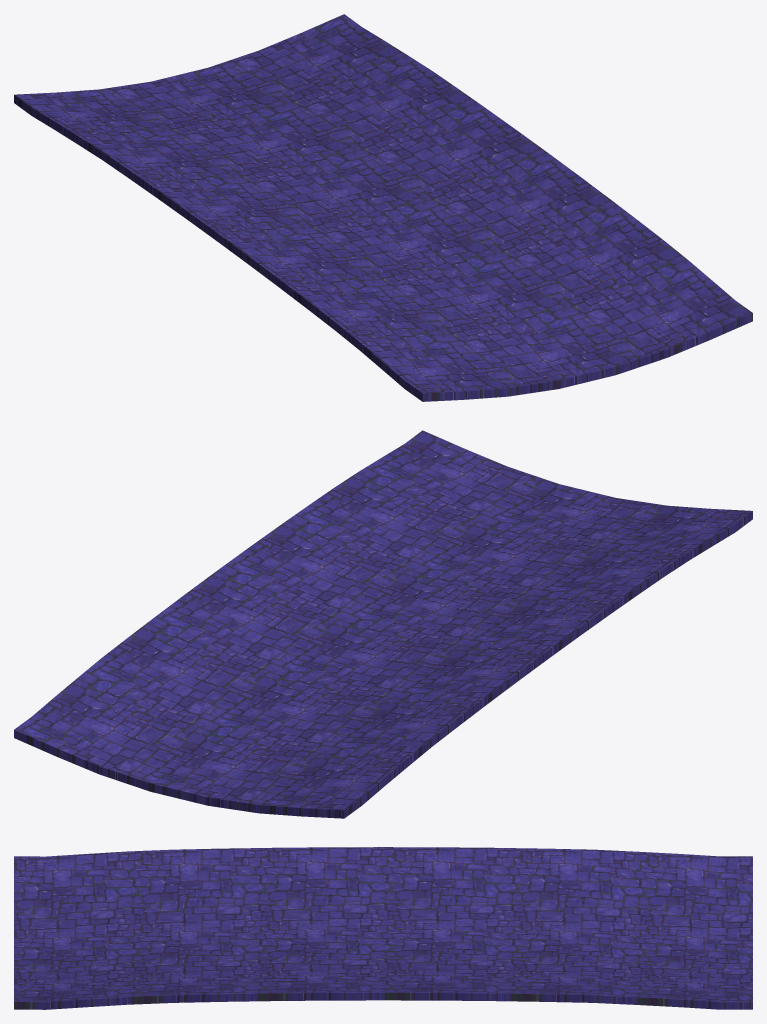
Rendered from G02_Hill_v1.obj.
3 renders of one model, top to bottom at view 1: azimuth 30°, elevation 25°; view 2: azimuth 150°, elevation 25°; view 3: azimuth 270°, elevation 25°, orthographic. The views are drawn at different scales.
Visible parts, largest first — view 1: G02_Hill_V1; view 2: G02_Hill_V1; view 3: G02_Hill_V1.
Part boxes in pixels (x1,y1,x2,y2): G02_Hill_V1: (14, 14, 752, 401); G02_Hill_V1: (14, 430, 752, 818); G02_Hill_V1: (14, 847, 752, 1009).
Bounding box in the file's own units: 28 × 3.17 × 60.
